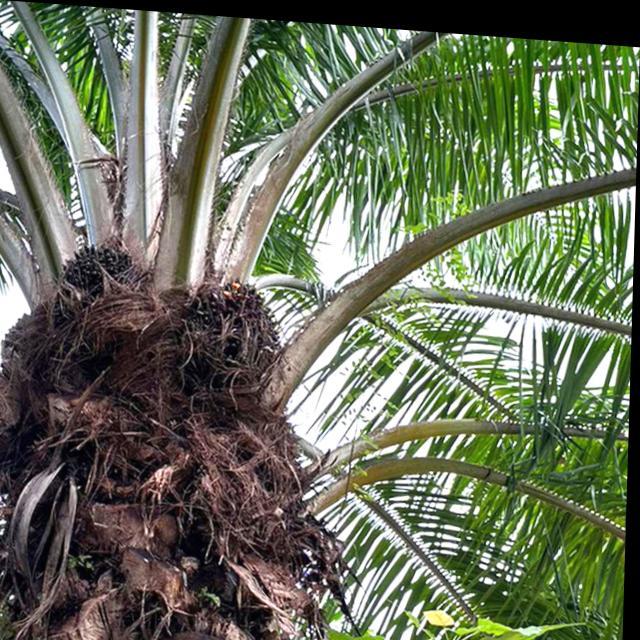almost: (167, 263, 296, 401)
